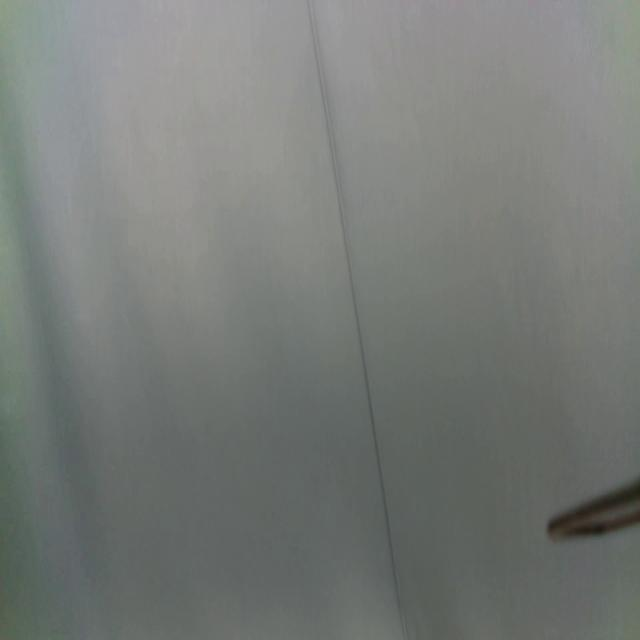crease: (308, 0, 409, 640)
